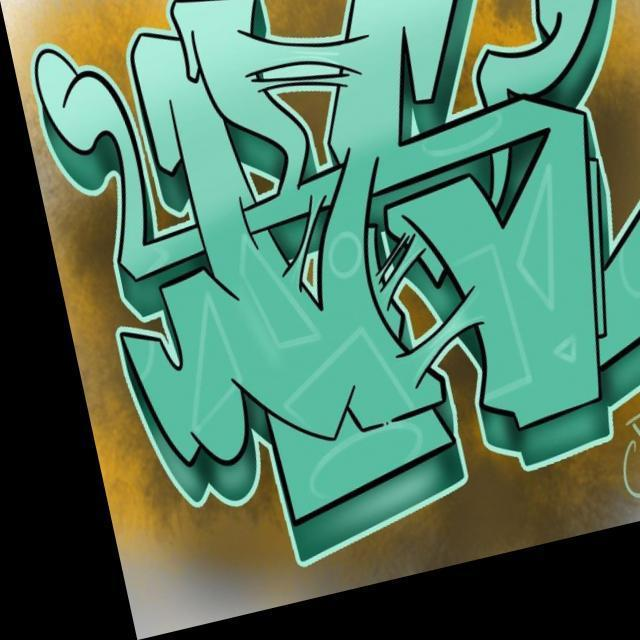-: (5, 0, 640, 612), (569, 390, 640, 532)
